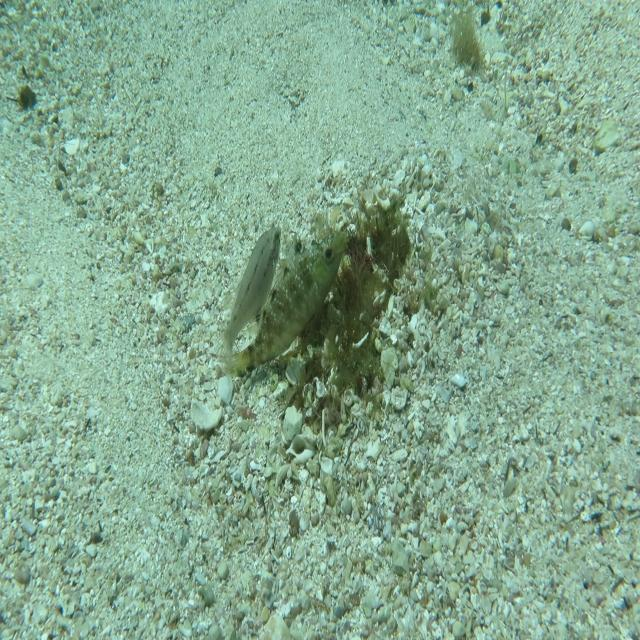FAN: (226, 228, 349, 382)
core_nest: (349, 222, 397, 278)
female: (212, 224, 282, 374)
nest: (267, 161, 427, 427)
